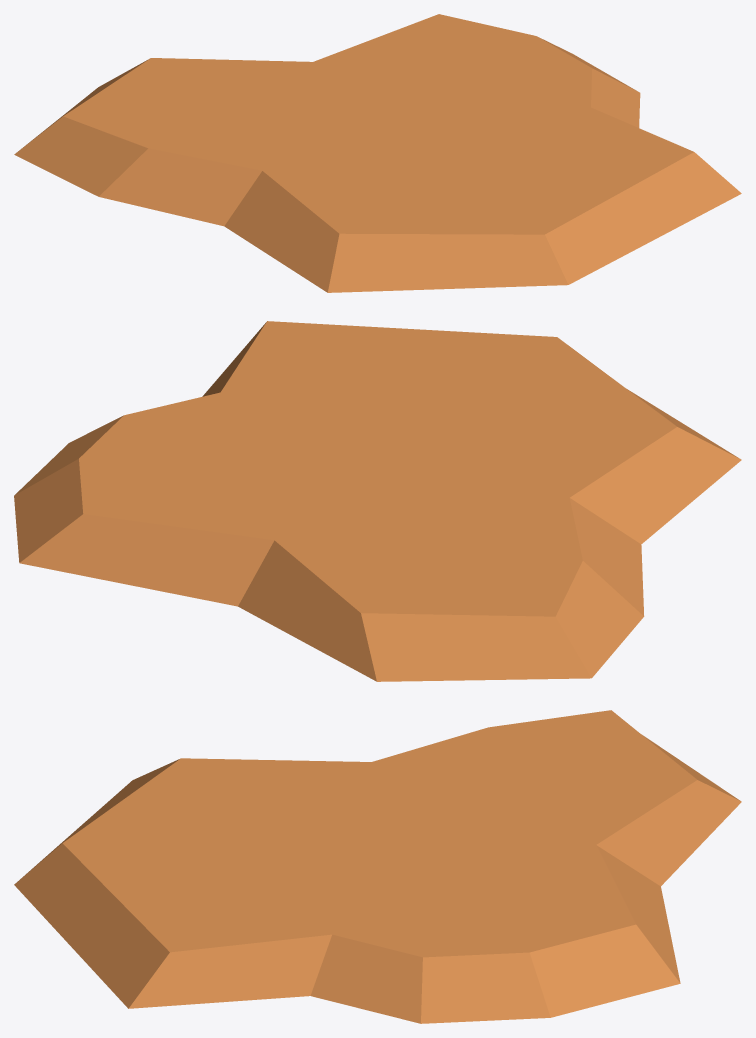
The model's file is stone_03.fbx.
The picture shows the model from 3 angles, top to bottom: view 1: azimuth 30°, elevation 25°; view 2: azimuth 150°, elevation 25°; view 3: azimuth 270°, elevation 25°; orthographic projection. The views are drawn at different scales.
Visible parts, largest first — view 1: Cube.032; view 2: Cube.032; view 3: Cube.032.
Part boxes in pixels (x1=…): Cube.032: x1=14, y1=14, x2=741, y2=292; Cube.032: x1=14, y1=321, x2=741, y2=681; Cube.032: x1=14, y1=710, x2=741, y2=1023.
Size of the model in its own units: 269 by 17.11 by 280.
